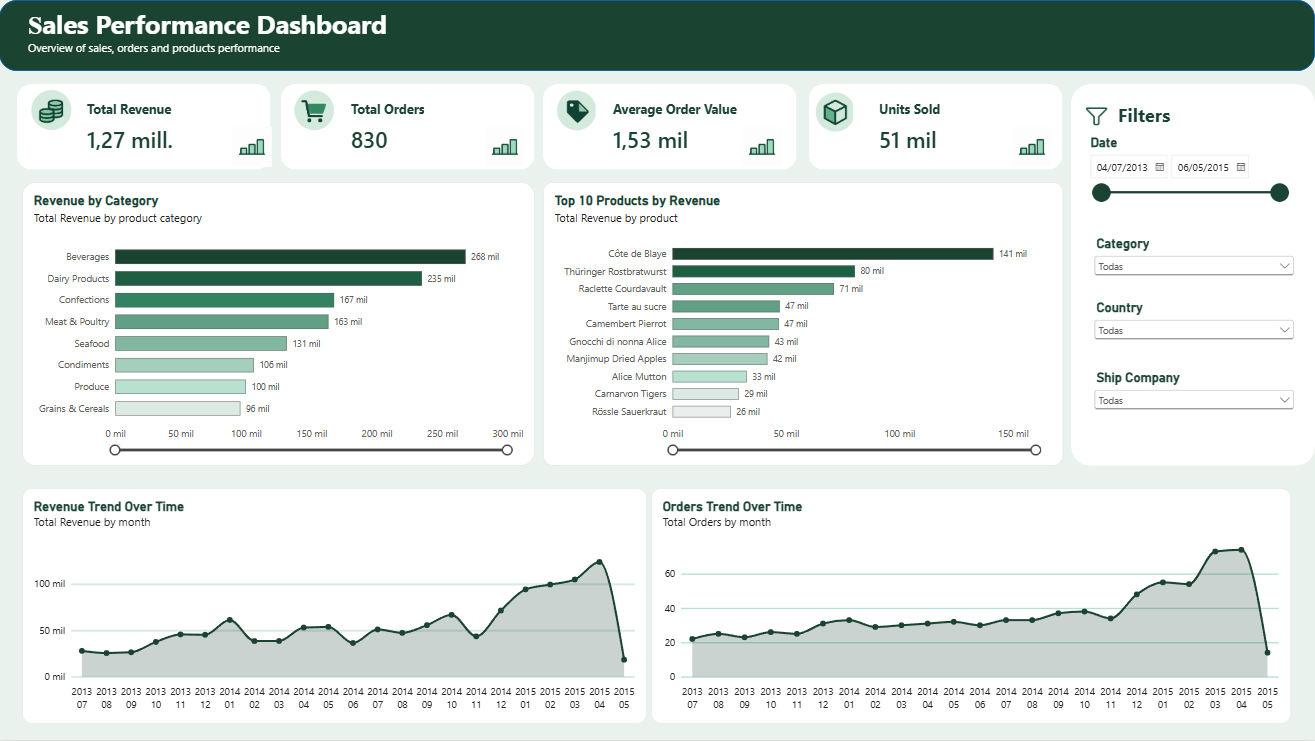

Layout of this report page (visuals, bound fields, positions):
{"tool":"powerbi","page":{"name":"Sales Performance","canvas":[1920,1080],"ordinal":0},"visuals":[{"type":"shape","box":[1564,122.6,356,557.3],"z":0},{"type":"cardVisual","fields":{"Data":["_Measures.Total Revenue"]},"box":[26.3,122.6,370,125.5],"z":1000},{"type":"cardVisual","fields":{"Data":["_Measures.Orders from Details"]},"box":[411.4,122.6,370,125.5],"z":2000},{"type":"cardVisual","fields":{"Data":["_Measures.Average Order Value"]},"box":[793.7,122.6,370,125.5],"z":3000},{"type":"cardVisual","fields":{"Data":["_Measures.Units Sold"]},"box":[1181.8,122.6,370,125.5],"z":4000},{"type":"lineChart","title":"Revenue Trend Over Time","fields":{"Category":["dim_Date.Date Jerarquía.YearMonthNumber STR"],"Y":["_Measures.Total Revenue"]},"box":[33.6,712,911.9,344.3],"z":5000},{"type":"lineChart","title":"Orders Trend Over Time","fields":{"Category":["dim_Date.Date Jerarquía.YearMonthNumber STR"],"Y":["_Measures.Total Orders"]},"box":[951.2,712,933.7,344.3],"z":6000},{"type":"shape","box":[0,0,1920,103.6],"z":7000},{"type":"textbox","box":[42.3,10.2,995,83.2],"z":8000},{"type":"image","box":[42.3,119.6,65.7,80.2],"z":9000},{"type":"image","box":[424.6,119.6,65,80.2],"z":10000},{"type":"image","box":[805.3,119.6,65,80],"z":11000},{"type":"image","box":[1181.8,122.6,64.2,80],"z":12000},{"type":"image","box":[337,185.3,64.2,58.4],"z":13000},{"type":"image","box":[706.1,185.3,64.2,58.4],"z":14000},{"type":"image","box":[1475,185.3,64.2,58.4],"z":15000},{"type":"image","box":[1081.1,185.3,64.2,58.4],"z":16000},{"type":"clusteredBarChart","title":"Revenue by Category","fields":{"Category":["dim_categories.categoryName"],"Y":["_Measures.Total Revenue"]},"box":[33.6,265.5,748.4,414.3],"z":17000},{"type":"clusteredBarChart","title":"Top 10 Products by Revenue","fields":{"Category":["dim_products.productName"],"Y":["_Measures.Total Revenue"]},"box":[793.7,265.5,758.7,414.3],"z":18000},{"type":"textbox","box":[100,100,300,300],"z":19000},{"type":"textbox","box":[1632.6,148.8,150.3,40.9],"z":20000},{"type":"image","box":[1569.8,141.5,62.7,55.4],"z":21000},{"type":"slicer","fields":{"Values":["dim_Date.Date"]},"box":[1584.4,197,300.5,147.4],"z":22000},{"type":"slicer","fields":{"Values":["dim_categories.categoryName"]},"box":[1593.2,344.3,300.5,78.8],"z":23000},{"type":"slicer","fields":{"Values":["dim_employees.country"]},"box":[1593.2,437.7,300.5,102.1],"z":24000},{"type":"slicer","fields":{"Values":["dim_shippers.companyName"]},"box":[1593.2,539.8,300.5,74.4],"z":25000}]}

Visuals, with their boxes in screenshot pixels (x1, y1, x2, y2), scaled from the page's 1920x1080 canvas onto the 1315x741 screenshot:
shape: bbox=[1071, 84, 1314, 466]
cardVisual - _Measures.Total Revenue: bbox=[18, 84, 271, 170]
cardVisual - _Measures.Orders from Details: bbox=[282, 84, 535, 170]
cardVisual - _Measures.Average Order Value: bbox=[544, 84, 797, 170]
cardVisual - _Measures.Units Sold: bbox=[809, 84, 1063, 170]
"Revenue Trend Over Time" lineChart: bbox=[23, 489, 648, 725]
"Orders Trend Over Time" lineChart: bbox=[651, 489, 1291, 725]
shape: bbox=[0, 0, 1314, 71]
textbox: bbox=[29, 7, 710, 64]
image: bbox=[29, 82, 74, 137]
image: bbox=[291, 82, 335, 137]
image: bbox=[552, 82, 596, 137]
image: bbox=[809, 84, 853, 139]
image: bbox=[231, 127, 275, 167]
image: bbox=[484, 127, 528, 167]
image: bbox=[1010, 127, 1054, 167]
image: bbox=[740, 127, 784, 167]
"Revenue by Category" clusteredBarChart: bbox=[23, 182, 536, 466]
"Top 10 Products by Revenue" clusteredBarChart: bbox=[544, 182, 1063, 466]
textbox: bbox=[68, 69, 274, 274]
textbox: bbox=[1118, 102, 1221, 130]
image: bbox=[1075, 97, 1118, 135]
slicer - dim_Date.Date: bbox=[1085, 135, 1291, 236]
slicer - dim_categories.categoryName: bbox=[1091, 236, 1297, 290]
slicer - dim_employees.country: bbox=[1091, 300, 1297, 370]
slicer - dim_shippers.companyName: bbox=[1091, 370, 1297, 421]
